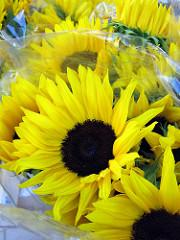sunflower: (17, 68, 162, 194), (78, 170, 180, 240), (17, 64, 18, 64)
